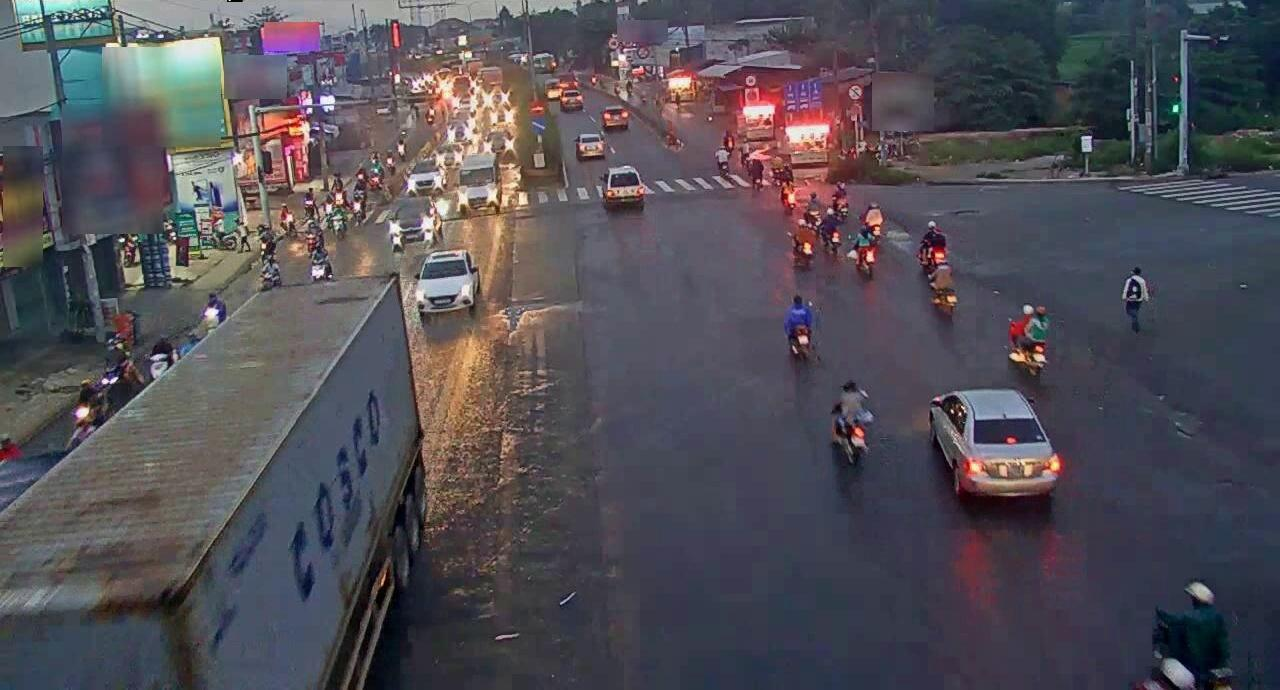xe container: (0, 237, 438, 690)
xe hoi: (916, 382, 1084, 526), (595, 157, 652, 221)
xe may: (900, 389, 961, 511), (1035, 309, 1104, 410), (770, 270, 828, 382), (928, 263, 967, 338), (913, 214, 951, 283), (848, 220, 880, 288), (848, 239, 881, 300)
